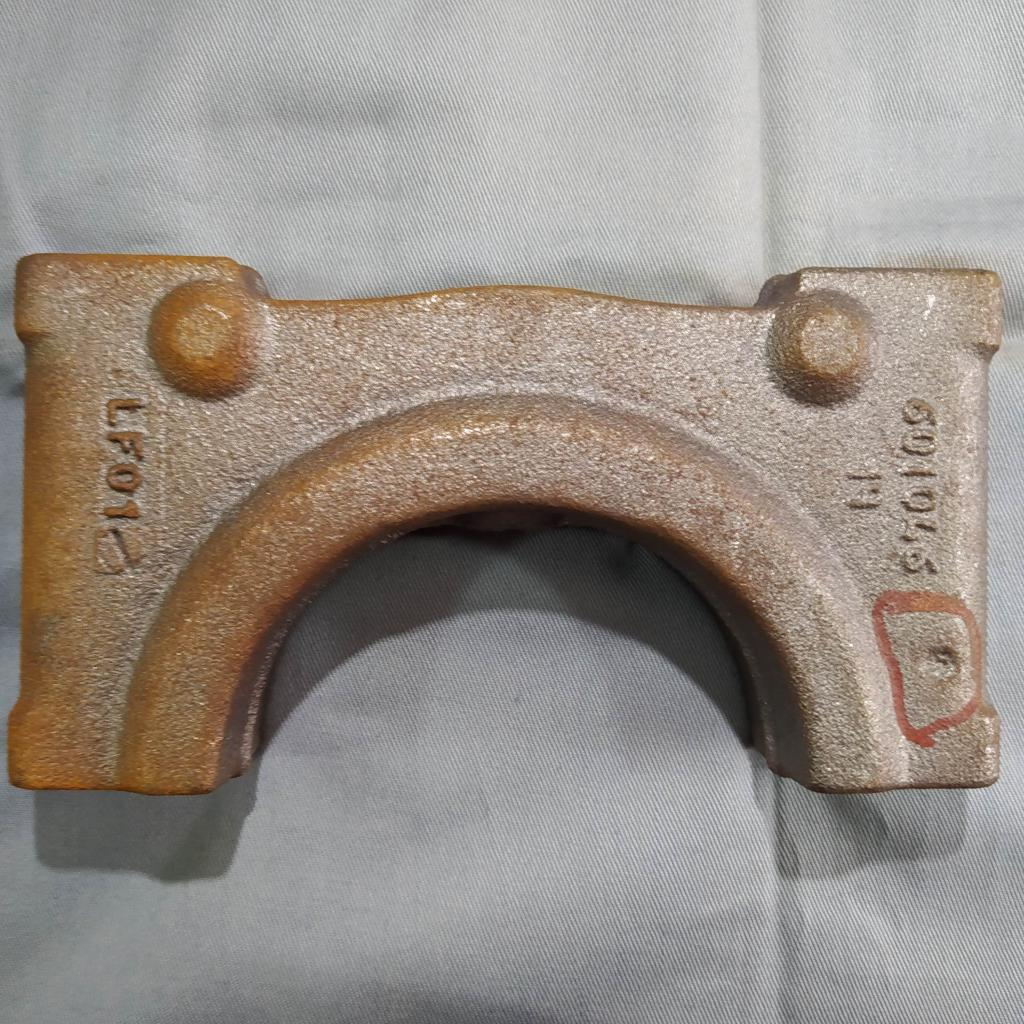buraco: (925, 644, 963, 690)
